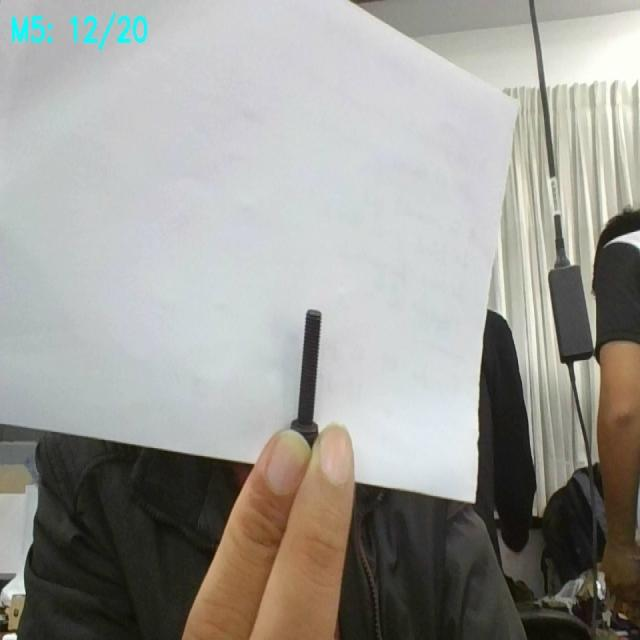vastago: (298, 309, 321, 423)
